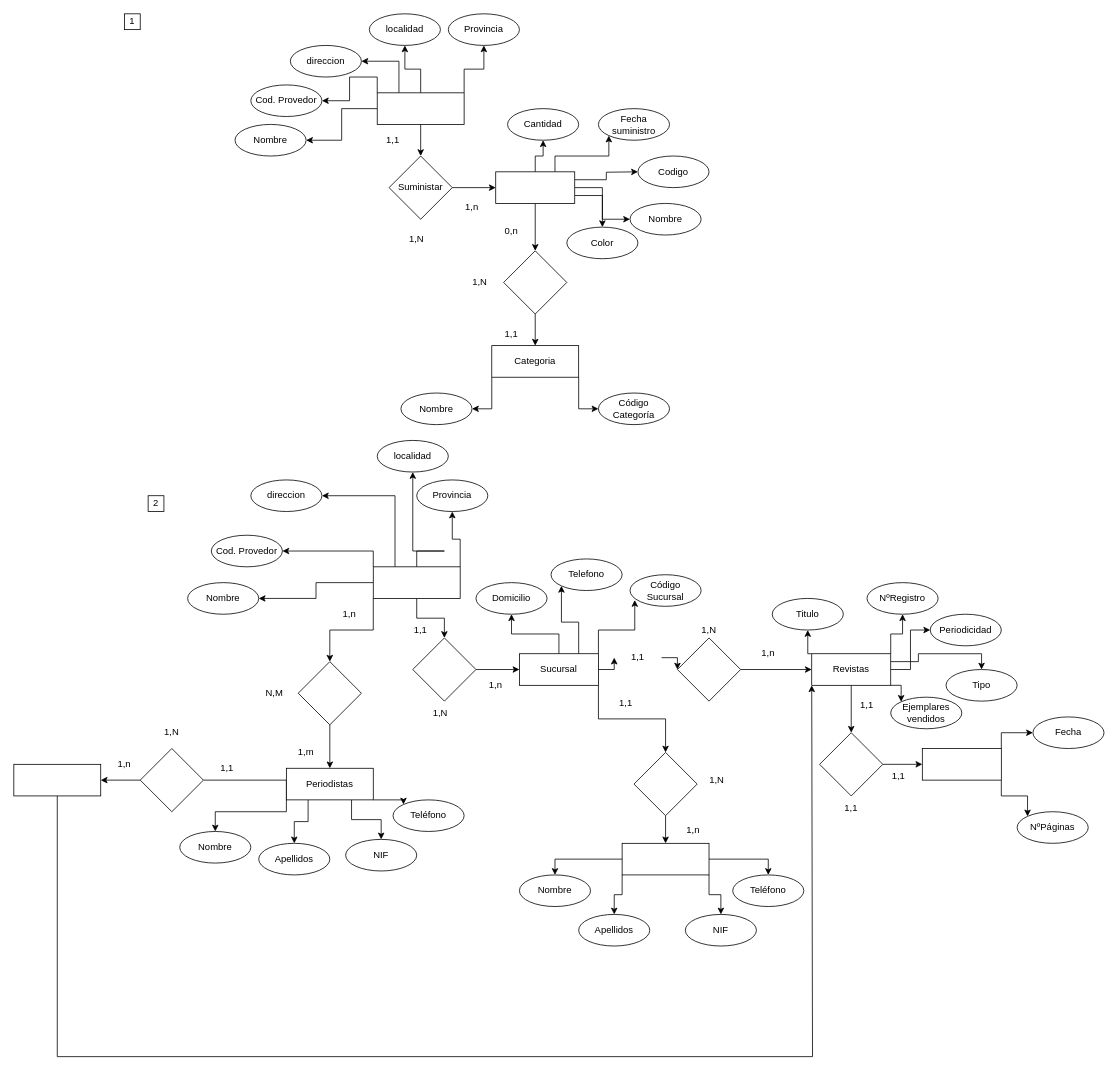
Image size: 1118x1077. Some labels were removed from this diagram. The centre of each missing label's shape, as x and y in pixels:
"Articulos" goes at (x=57, y=780).
"Contiene" goes at (x=851, y=764).
"Editorial" goes at (x=416, y=582).
"Empleado" goes at (x=665, y=859).
"Escribir" goes at (x=171, y=780).
"Pertenecer" goes at (x=535, y=282).
"Piezas" goes at (x=535, y=187).
"Proveedor" goes at (x=420, y=108).
"Publicar" goes at (x=709, y=669).
"Secciones fijas" goes at (x=961, y=764).
"Tener" goes at (x=444, y=669).
"Trabajan" goes at (x=329, y=693).
"Trabajar" goes at (x=665, y=784).
